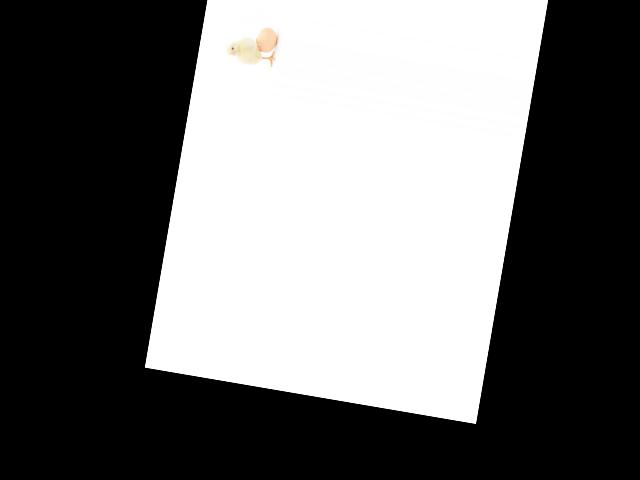egg: (255, 26, 278, 55)
